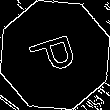P_E: (25, 29, 85, 81)
